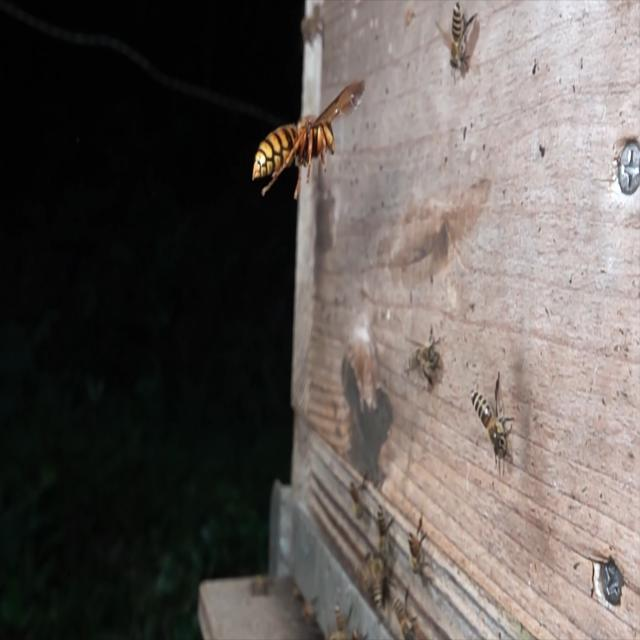Bees: (470, 370, 514, 470), (437, 2, 478, 83), (402, 326, 443, 387), (408, 515, 430, 581), (392, 586, 417, 640)
Hornets: (253, 80, 364, 200)
